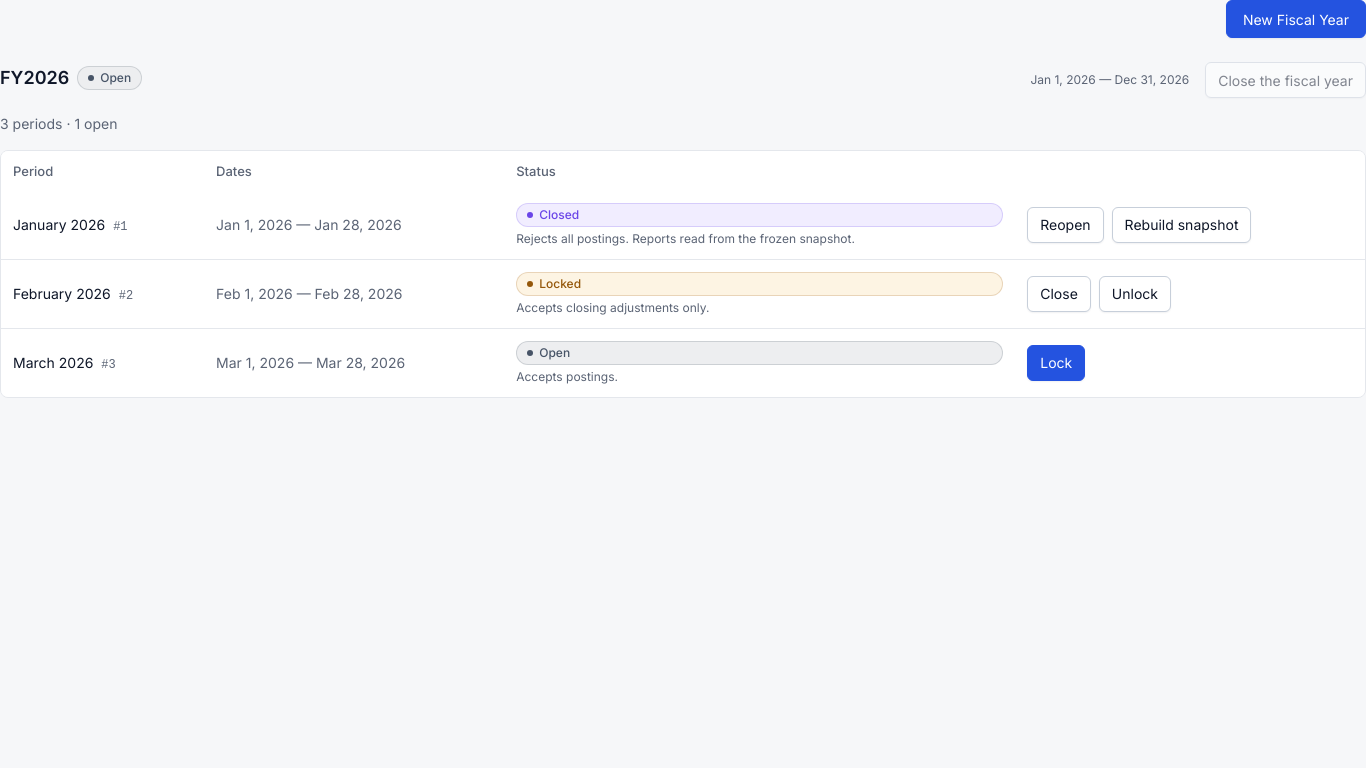
FiscalPeriods › period actions › asks for a reason before reopening a closed period
Expected: the text "January 2026" is shown, [13, 216, 105, 233]
Click the button "Reopen" at (1065, 225), box [1027, 207, 1104, 243]
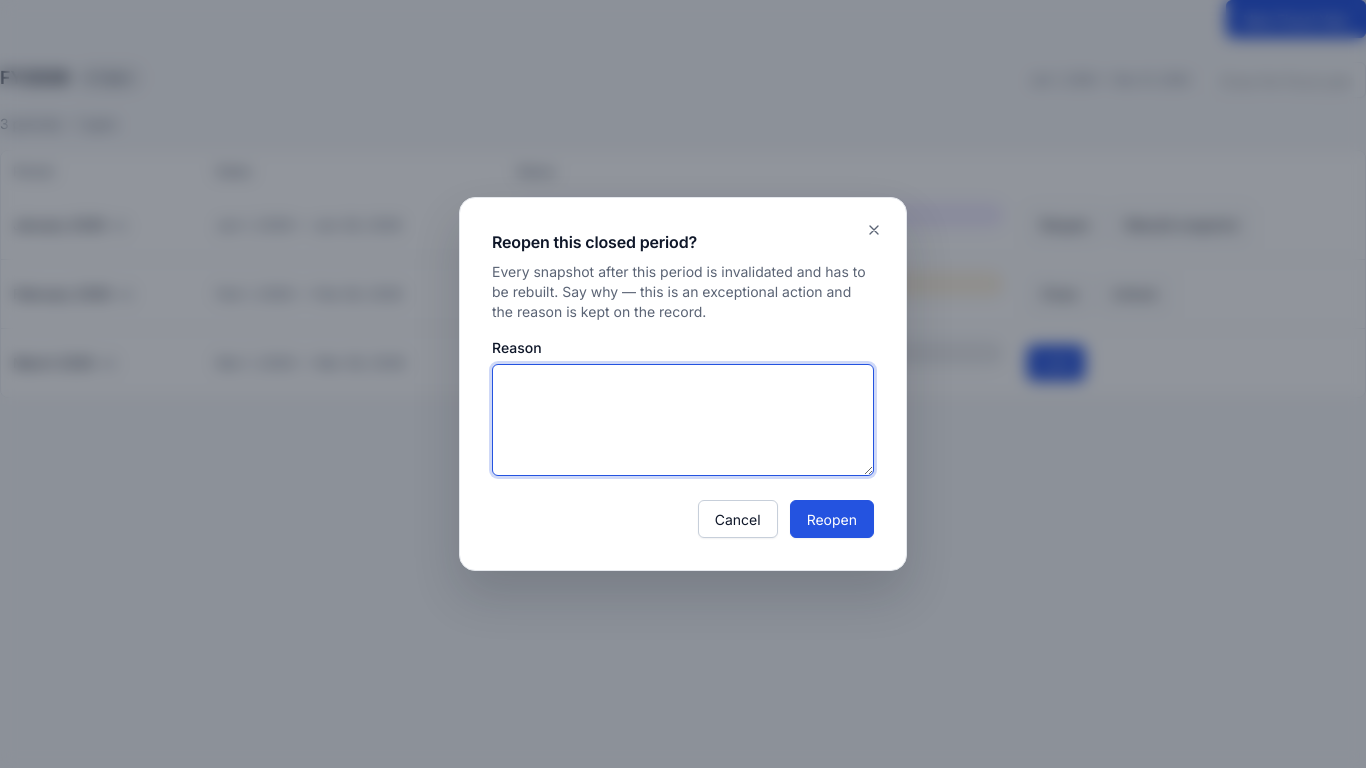
Result: the heading "Reopen this closed period?" is shown at [492, 232, 697, 252]
Result: the text box labelled "Reason" is shown at [492, 364, 874, 476]
